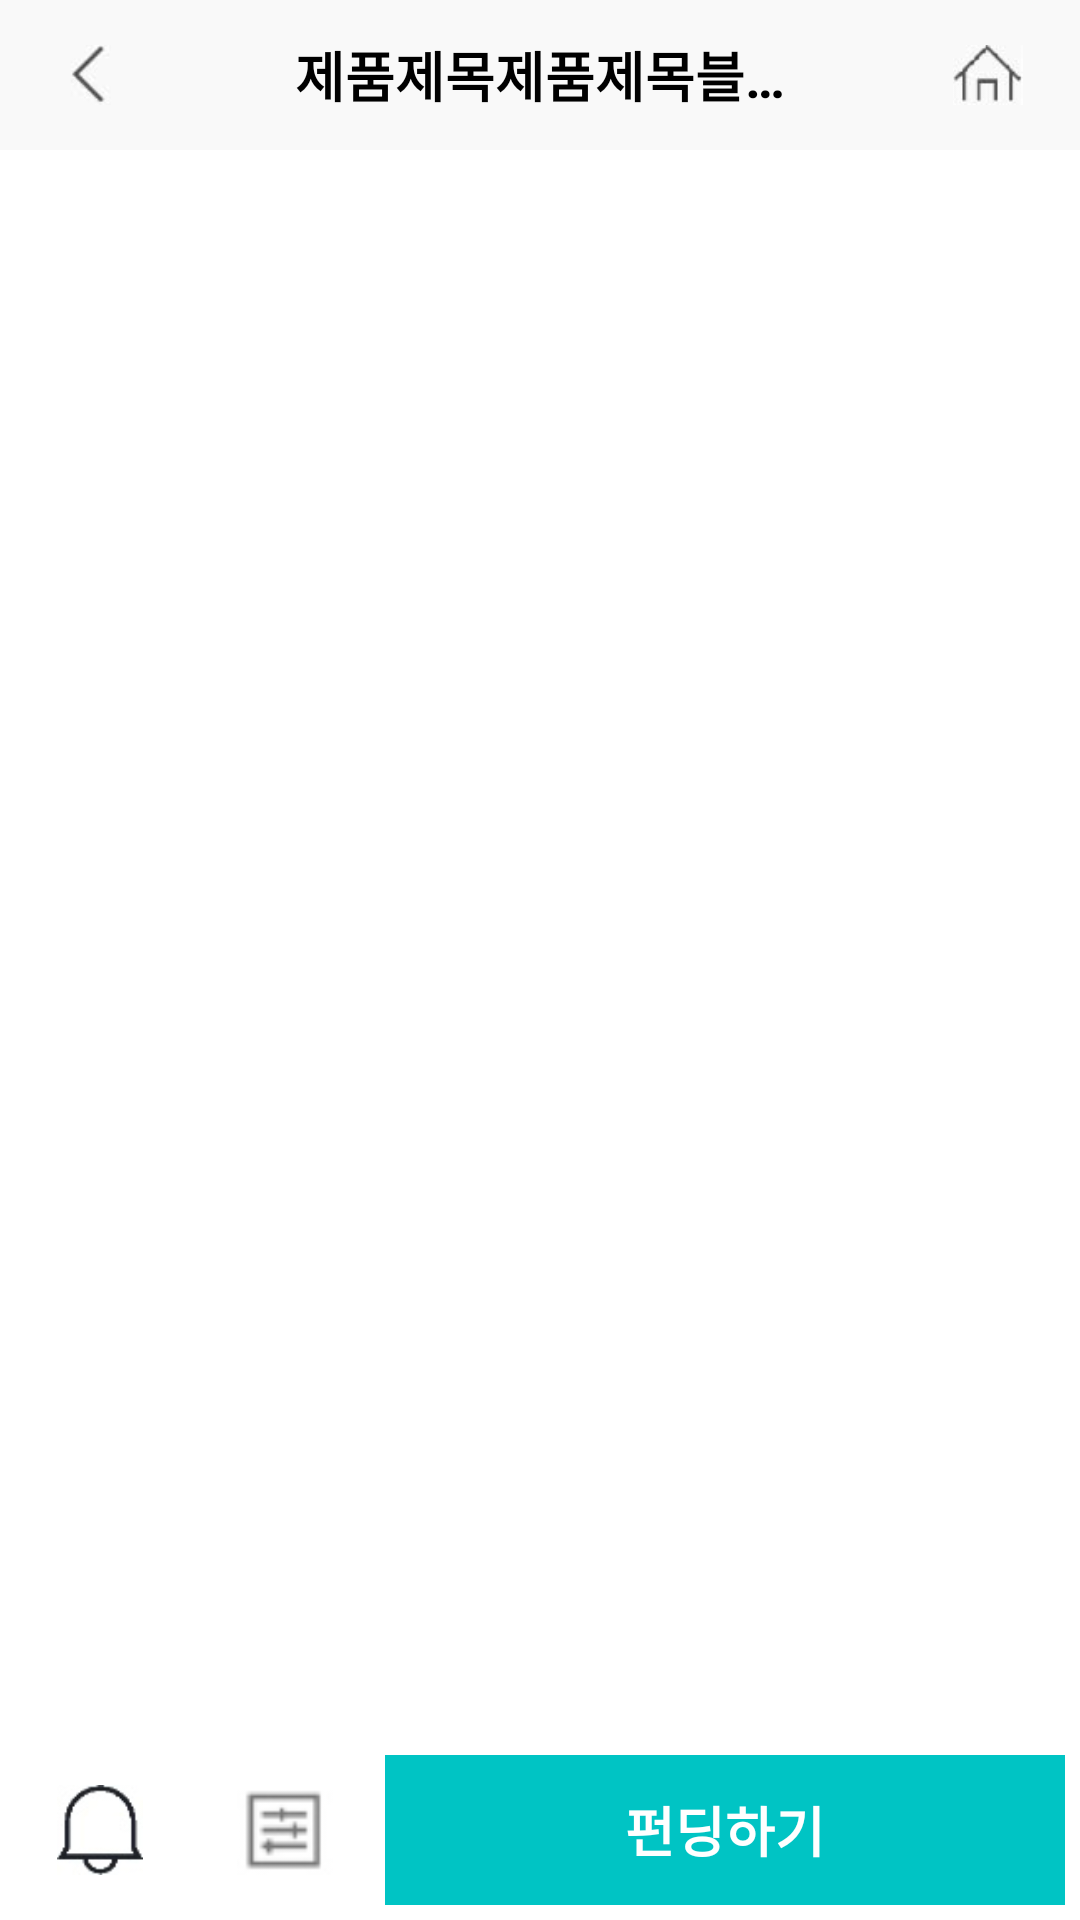

Icons on this 1080px×1920px Android screen, each with the point to tap as point (x, y):
alarm: point (100, 1830)
back: point (88, 74)
home: point (987, 73)
